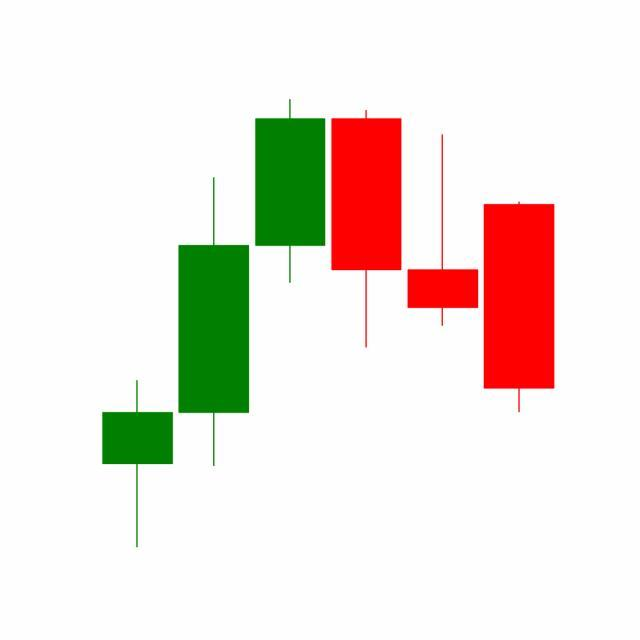Hikkake Pattern: (175, 100, 555, 472)
